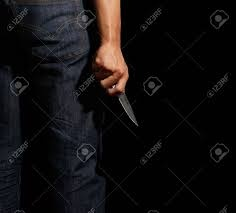knife: (112, 83, 139, 127)
